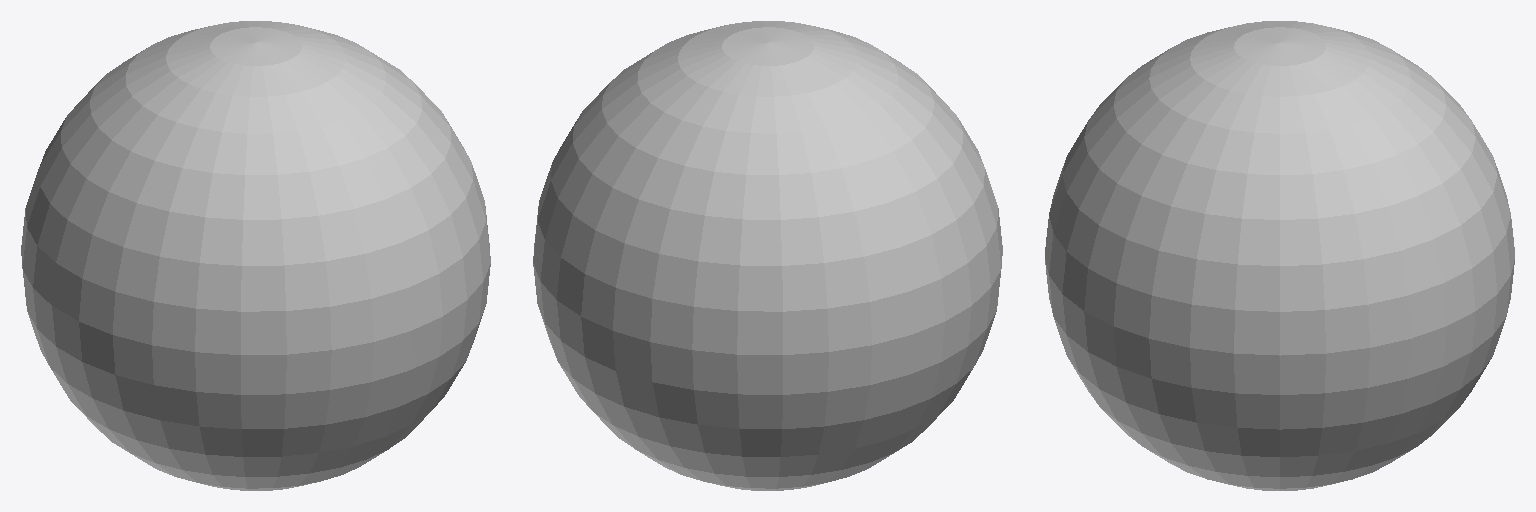
Rendered from cornell3_sphere2_04.obj.
3 views of the same model, side by side, from view 1: azimuth 30°, elevation 25°; view 2: azimuth 150°, elevation 25°; view 3: azimuth 270°, elevation 25° (orthographic).
Parts seen in each view (by area): view 1: Sphere; view 2: Sphere; view 3: Sphere.
Boxes of the visible parts, x1,y1,x2,y2 form: Sphere: [21, 21, 490, 490]; Sphere: [533, 21, 1002, 490]; Sphere: [1045, 21, 1514, 490].
Bounding box in the file's own units: 0.398 × 0.398 × 0.398.